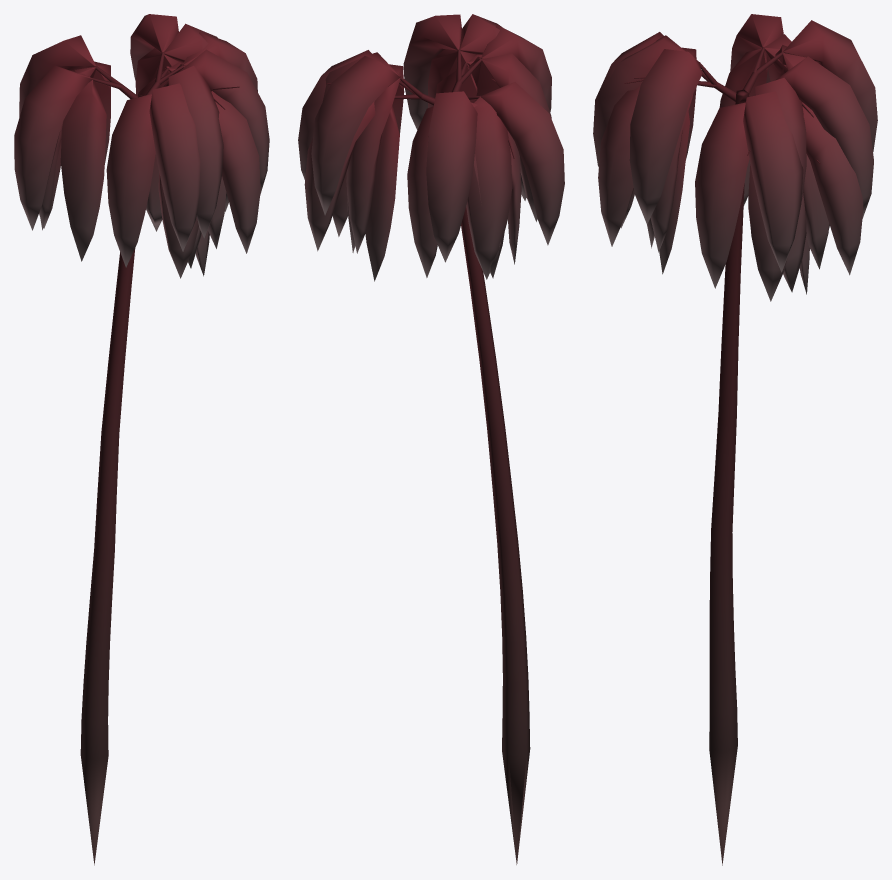
File: plants-trees-palms-red-palm-tree_v7.glb
3 views of the same model, side by side, from view 1: azimuth 30°, elevation 25°; view 2: azimuth 150°, elevation 25°; view 3: azimuth 270°, elevation 25° (orthographic). The views are drawn at different scales.
Parts seen in each view (by area): view 1: Red Palm Tree_v7; view 2: Red Palm Tree_v7; view 3: Red Palm Tree_v7.
Boxes of the visible parts, x1=… form: Red Palm Tree_v7: x1=14, y1=14, x2=269, y2=865; Red Palm Tree_v7: x1=298, y1=14, x2=564, y2=864; Red Palm Tree_v7: x1=593, y1=14, x2=877, y2=865.
Size of the model in its own units: 1.59 by 5 by 1.49.
